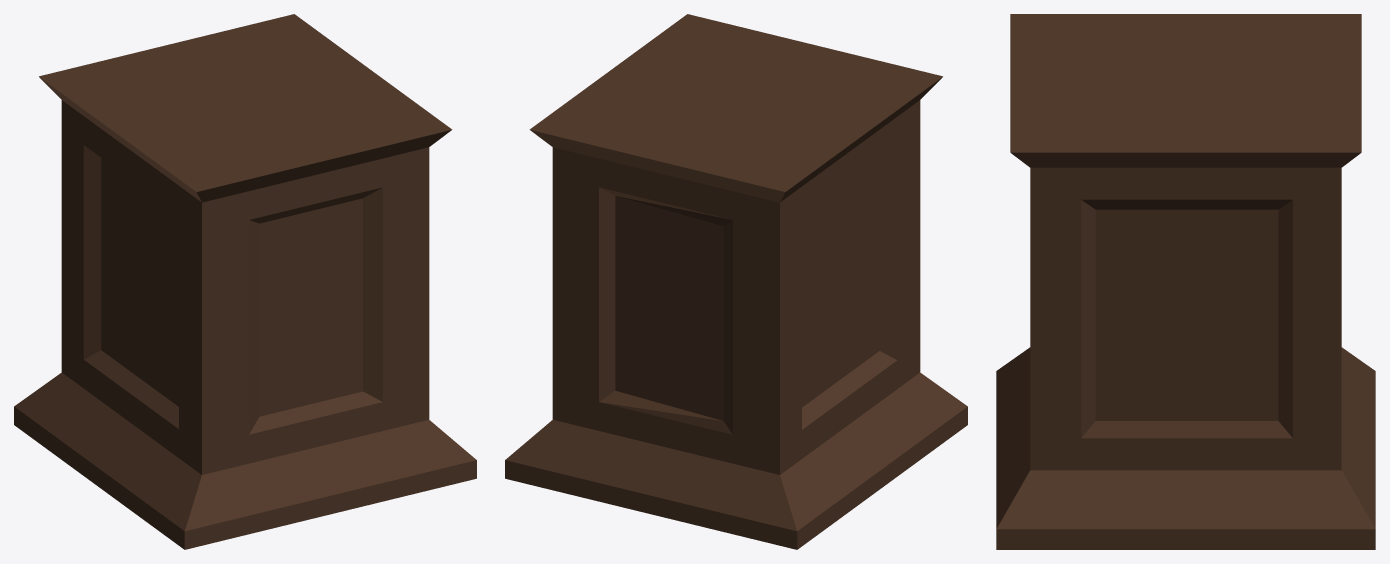
File: DiamondStand.fbx
The picture shows the model from 3 angles, left to right: view 1: azimuth 30°, elevation 25°; view 2: azimuth 150°, elevation 25°; view 3: azimuth 270°, elevation 25°; orthographic projection. The views are drawn at different scales.
Visible parts, largest first — view 1: pCube1; view 2: pCube1; view 3: pCube1.
Boxes of the visible parts, left/top/right/bottom form: pCube1: left=14, top=14, right=476, bottom=549; pCube1: left=505, top=14, right=967, bottom=549; pCube1: left=996, top=14, right=1375, bottom=549.
Size of the model in its own units: 3.97 by 4.54 by 4.02.
